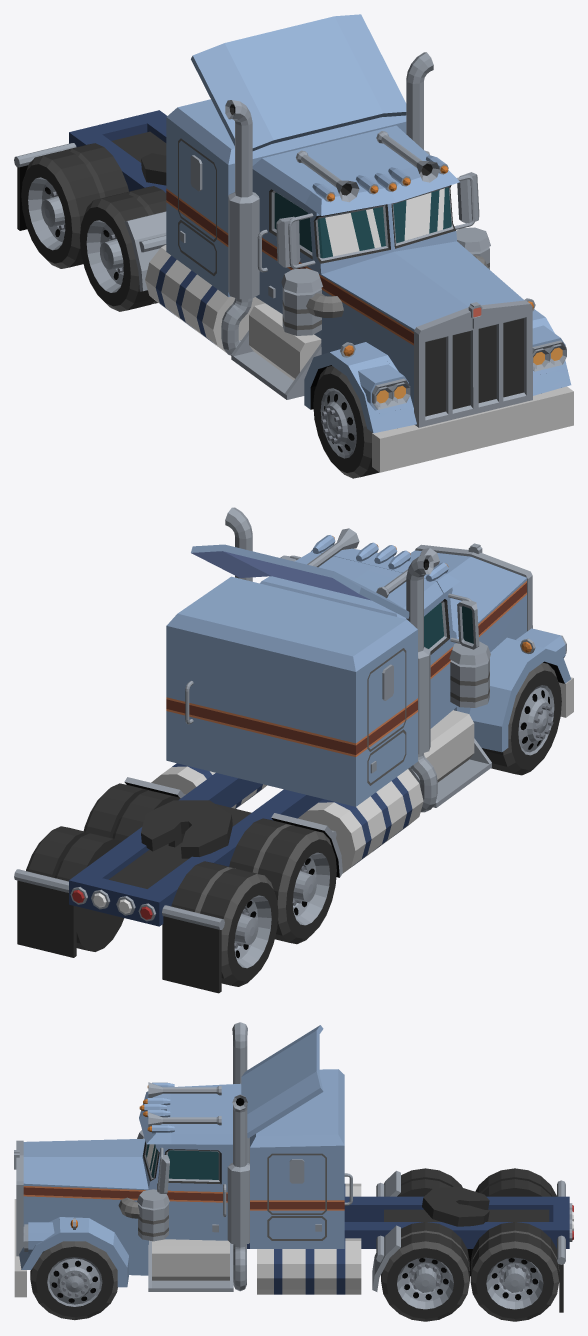
File: cv-kenworth.glb
3 views of the same model, one above another, from view 1: azimuth 30°, elevation 25°; view 2: azimuth 150°, elevation 25°; view 3: azimuth 270°, elevation 25° (orthographic). The views are drawn at different scales.
Parts seen in each view (by area): view 1: Object_4, lamp_head_R, lamp_head_L; view 2: Object_4, lamp_tail_R, lamp_tail_L; view 3: Object_4.
Part boxes in pixels (box(x1,y1,x2,y2)): Object_4: box(14, 14, 573, 478); lamp_head_R: box(347, 359, 408, 415); lamp_head_L: box(532, 319, 566, 376); Object_4: box(14, 507, 573, 993); lamp_tail_R: box(131, 888, 179, 926); lamp_tail_L: box(69, 865, 94, 910); Object_4: box(14, 1022, 573, 1321).
Bounding box in the file's own units: 2.89 × 3.93 × 8.5.
Materials: 1 (1 with a texture image).
